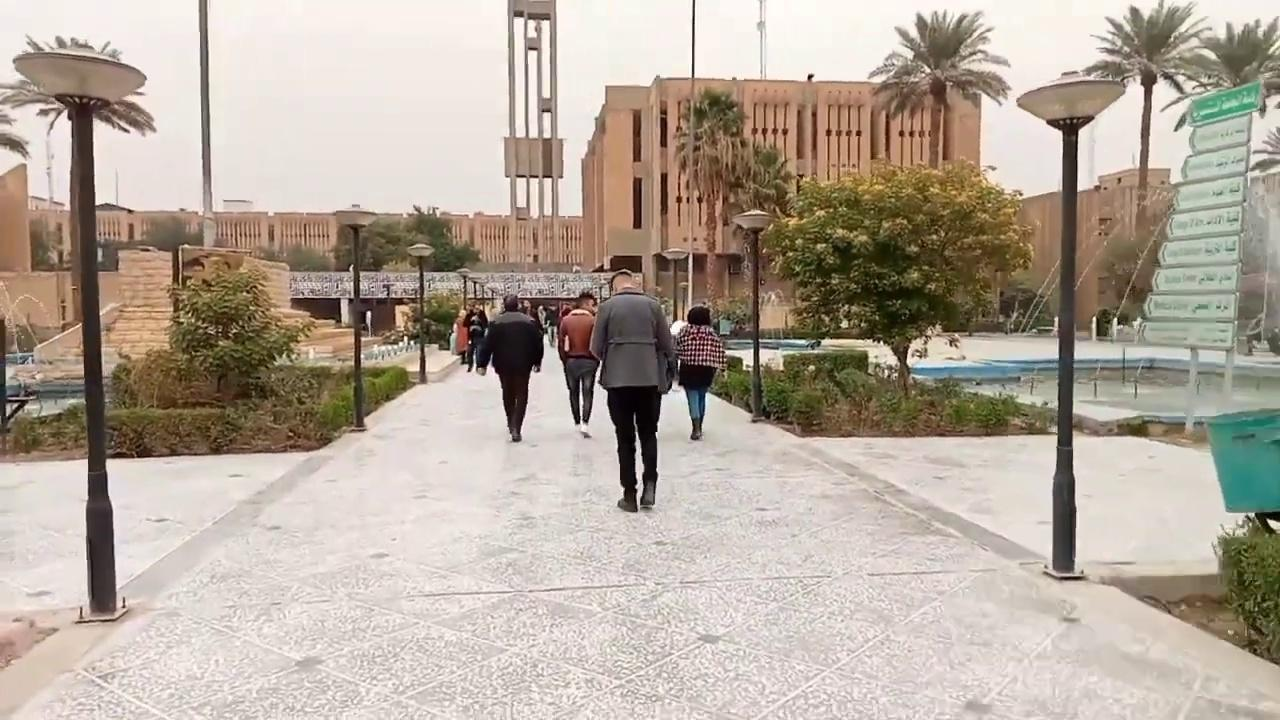fountain: (908, 75, 1277, 451), (1131, 80, 1262, 433), (1, 288, 125, 422)
person: (588, 267, 677, 512), (475, 293, 544, 442), (673, 305, 726, 440), (557, 290, 600, 437)
tree: (2, 33, 156, 621), (760, 154, 1034, 397), (865, 8, 1012, 332), (1166, 16, 1279, 348), (1081, 0, 1213, 223), (669, 85, 794, 320), (1, 34, 153, 207), (866, 7, 1011, 170), (161, 265, 312, 401), (1162, 15, 1279, 126), (361, 203, 480, 272), (1195, 16, 1279, 87), (403, 289, 461, 349), (0, 79, 31, 163)
